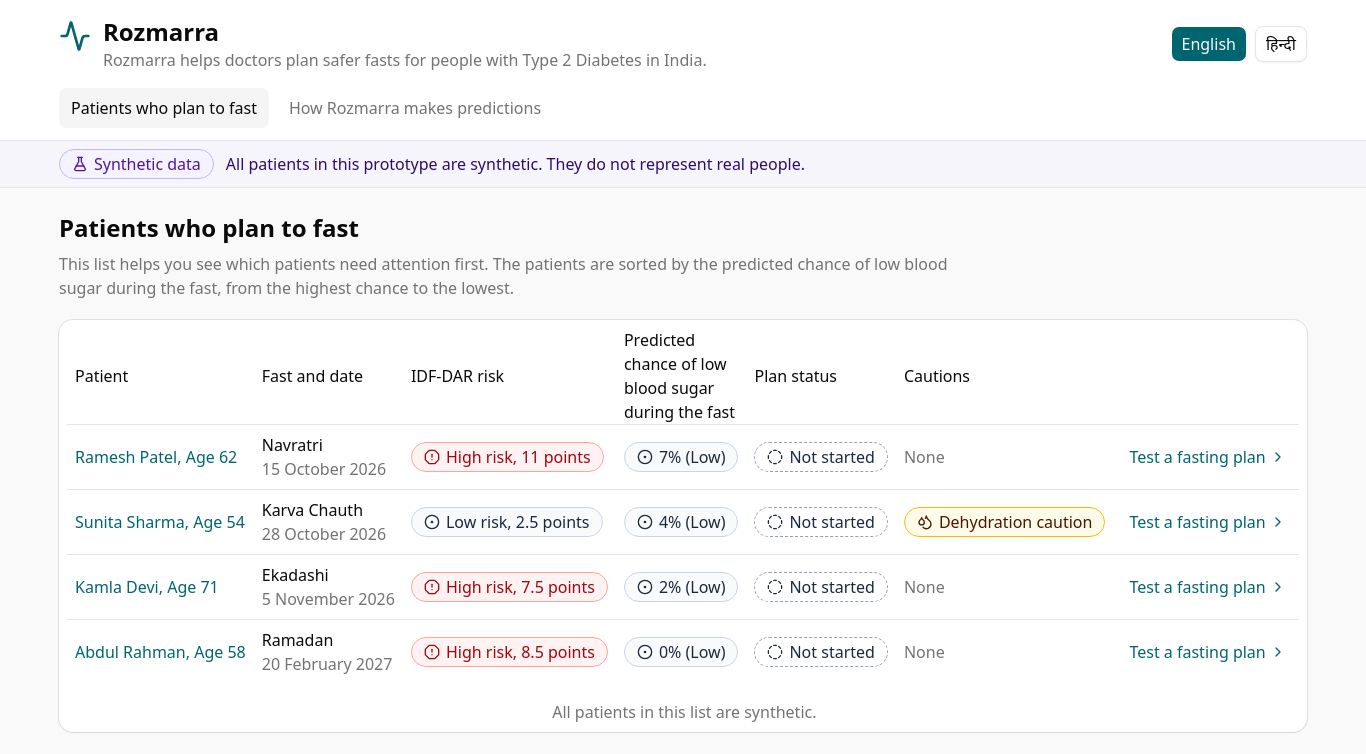
it: the doctor can switch the dashboard to Hindi
Expected: the link "Ramesh Patel, Age 62" is shown, [75,446,237,468]
Step 1. Click the button "हिन्दी" → (1281, 44), box [1255,26,1307,62]
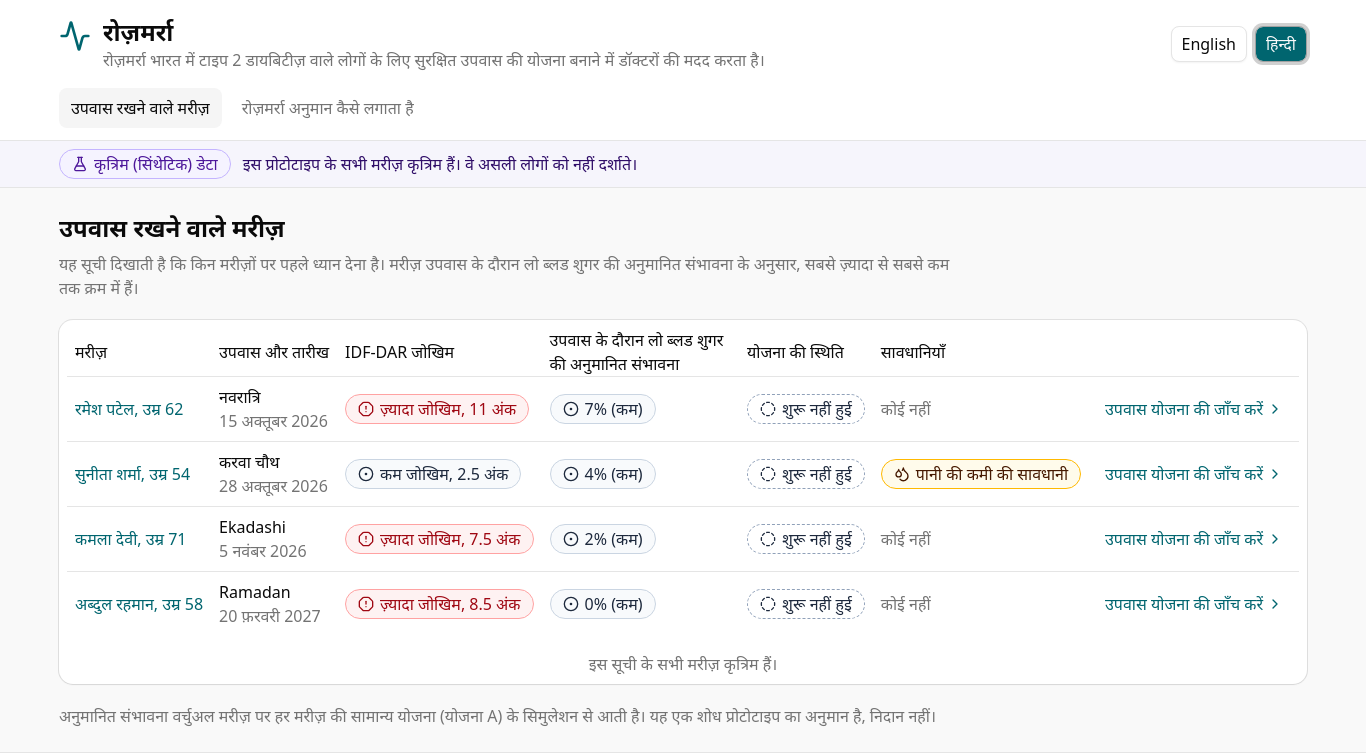
Now the heading "उपवास रखने वाले मरीज़" is shown, box [59,211,285,244]
Now the link "रमेश पटेल, उम्र 62" is shown, box [75,398,183,420]
